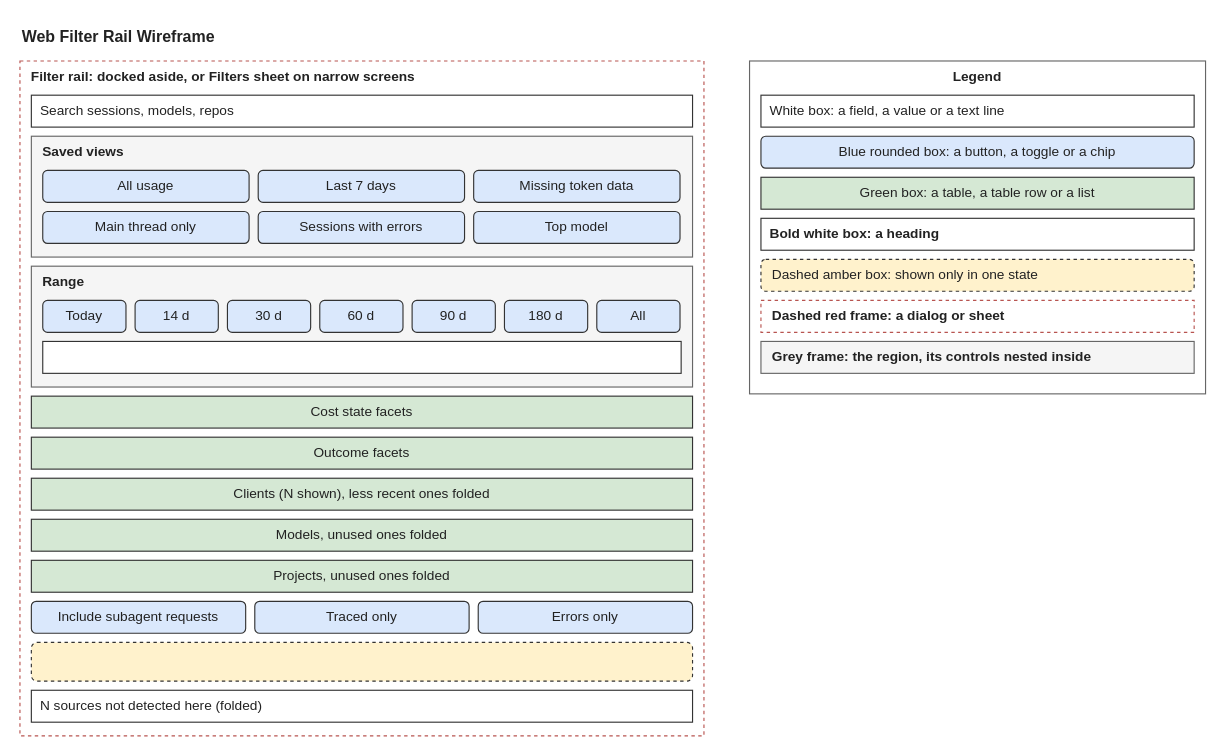
This 1226x756 diagram has some shape labels left out. The shapes that lost their labels are listed below. From the top down, each one's centre as x and y in pixels, then its label:
At point 361,356: "since and until date fields".
At point 361,661: "Clear all filters (only when a filter is set)".
